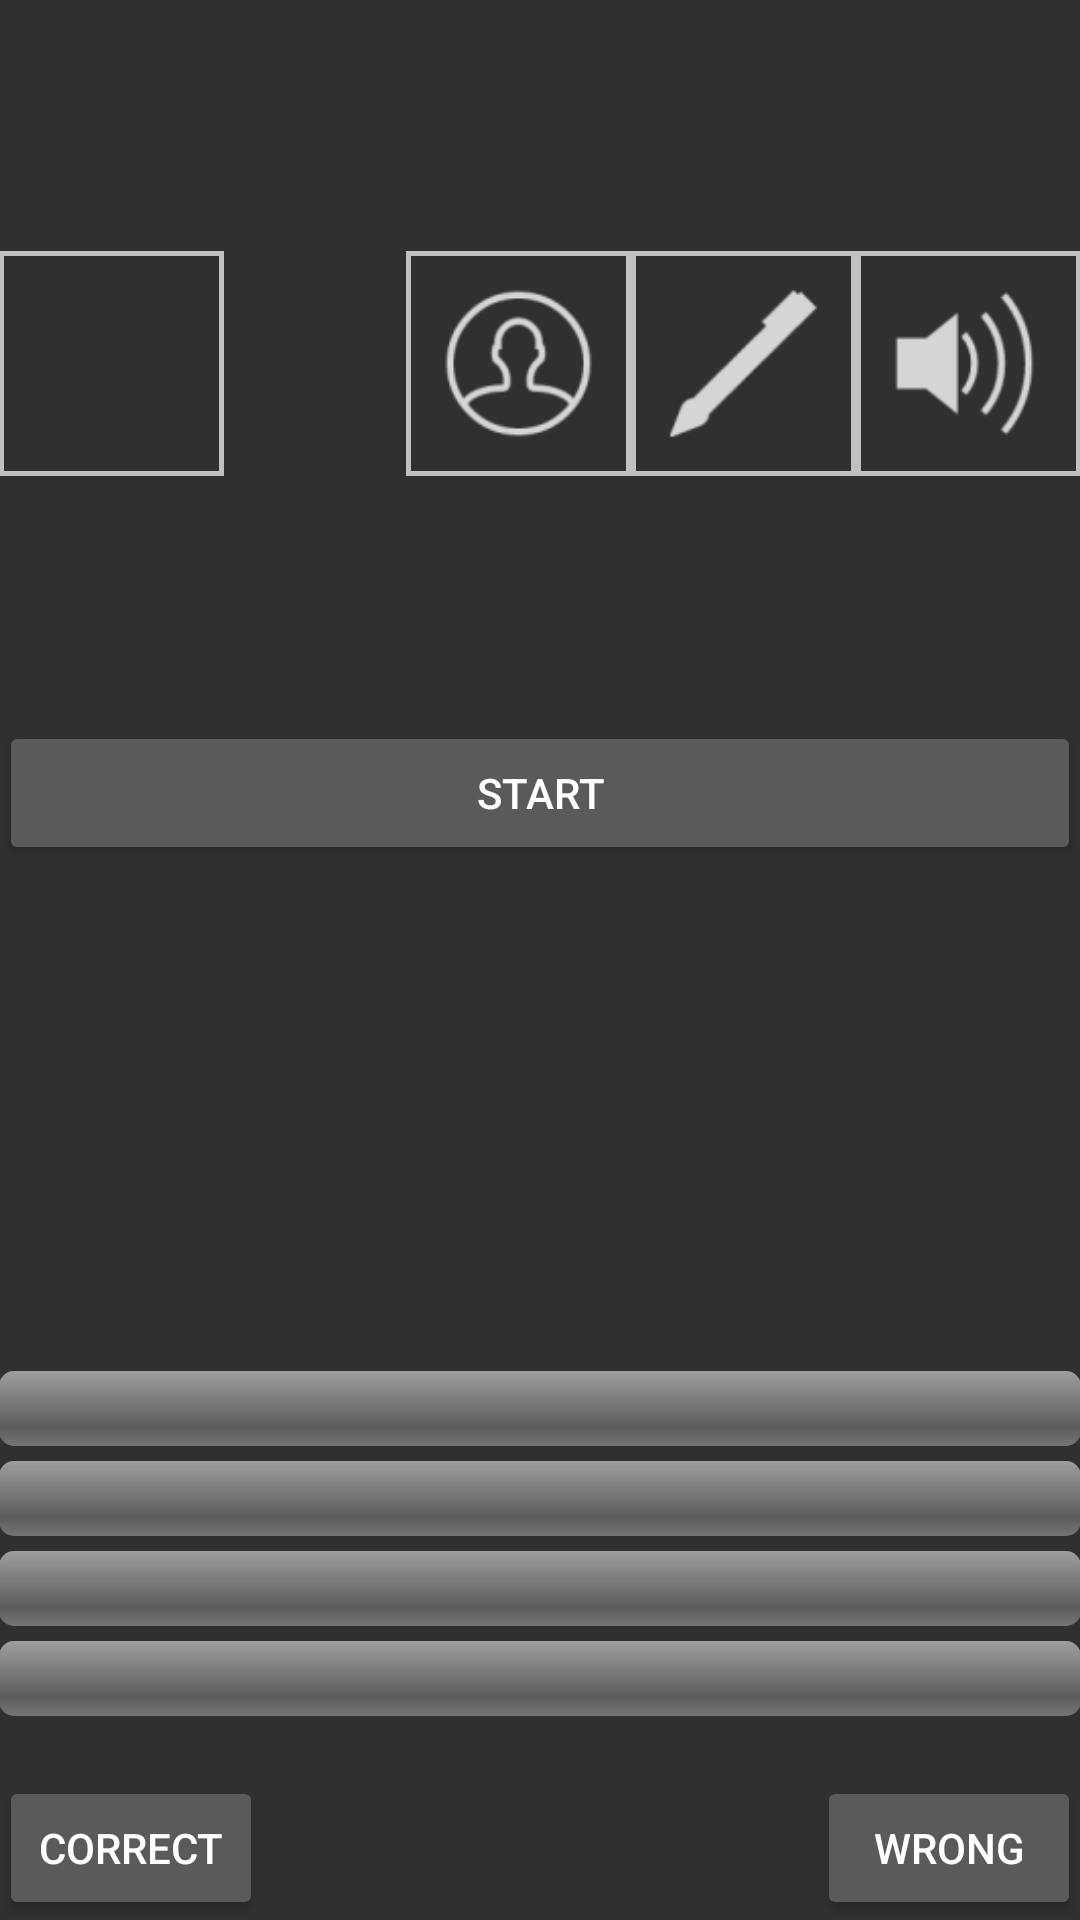

Named icons in this screenshot (1080 x 1920) and their bounding boxes, box=[x1, y1, x2, y2]:
options pen: box=[636, 256, 851, 471]
options talk: box=[861, 256, 1076, 471]
